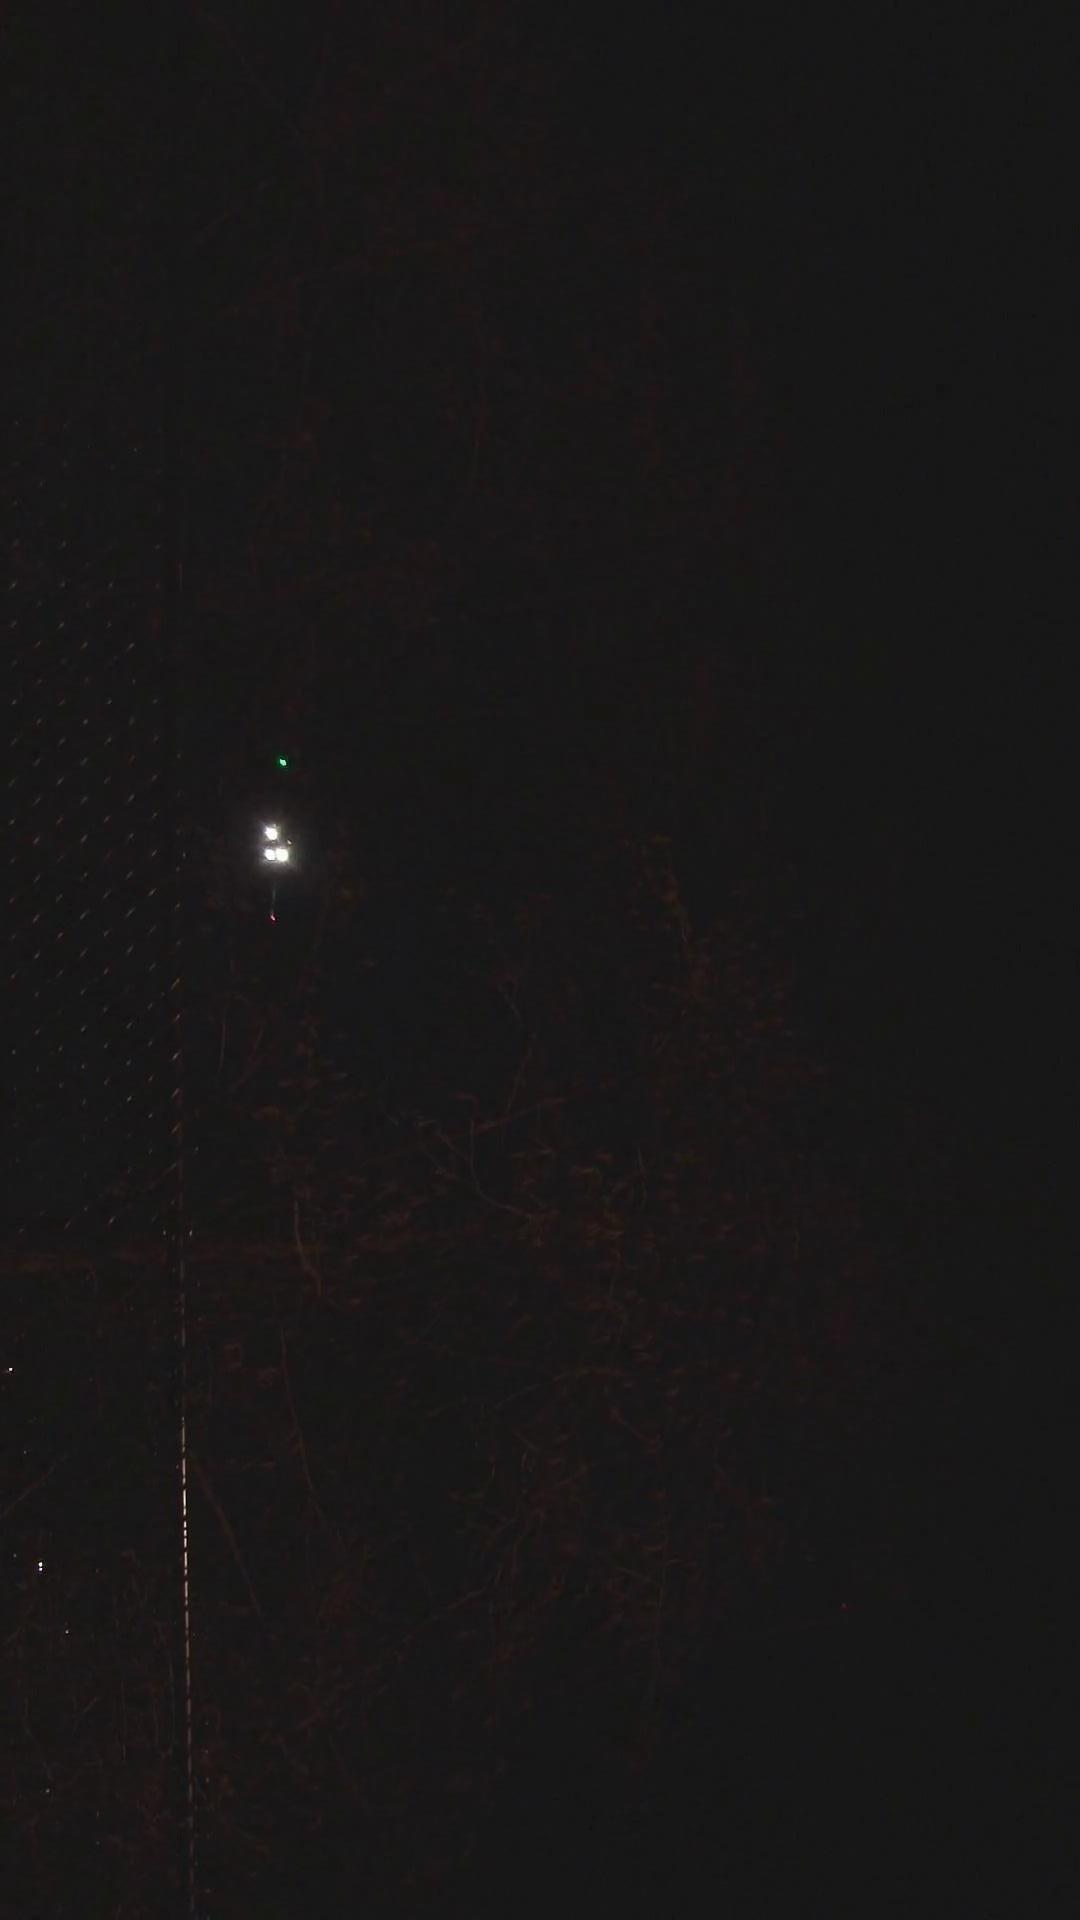Plane: (231, 785, 332, 953)
